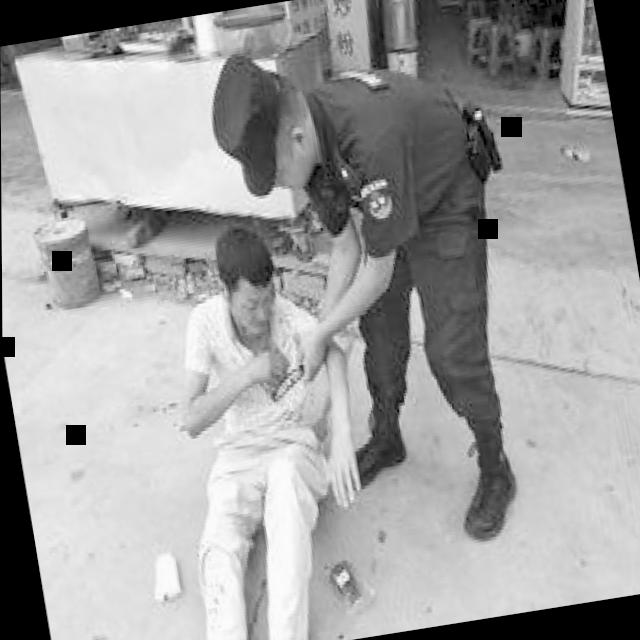Fall-Detected: (71, 199, 406, 640)
